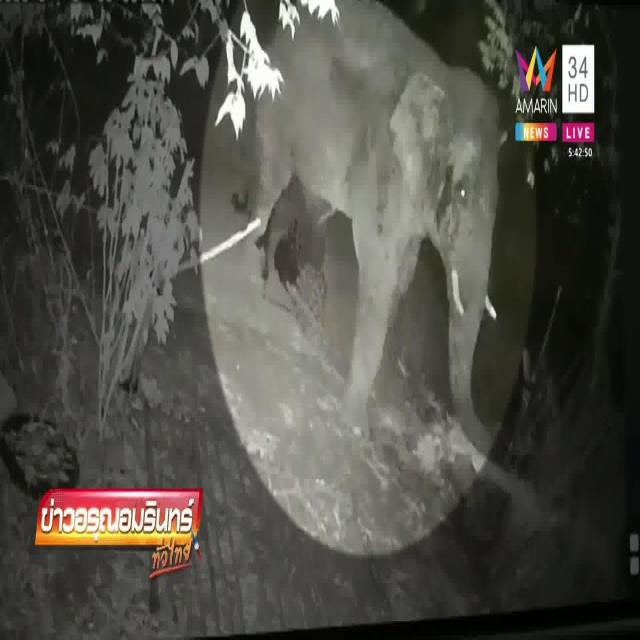Elephant: (287, 0, 497, 379)
